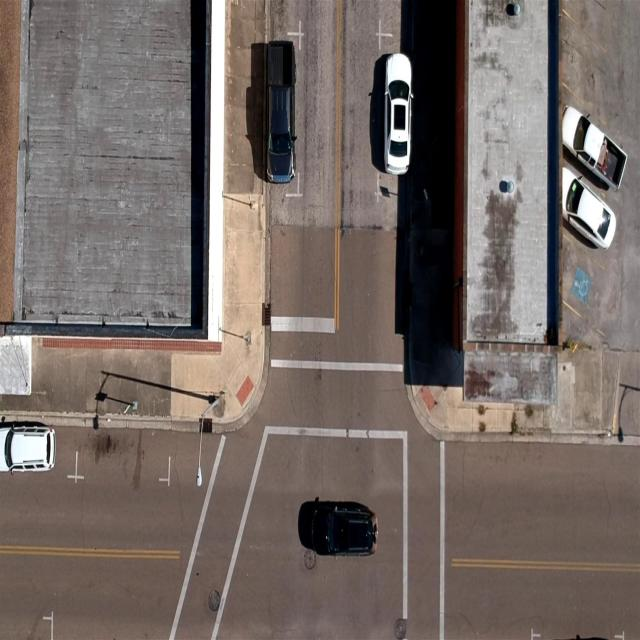Car: (384, 54, 414, 198), (555, 182, 613, 238), (302, 505, 374, 549), (0, 434, 57, 470)
Truck: (262, 40, 294, 194), (565, 109, 619, 169)
